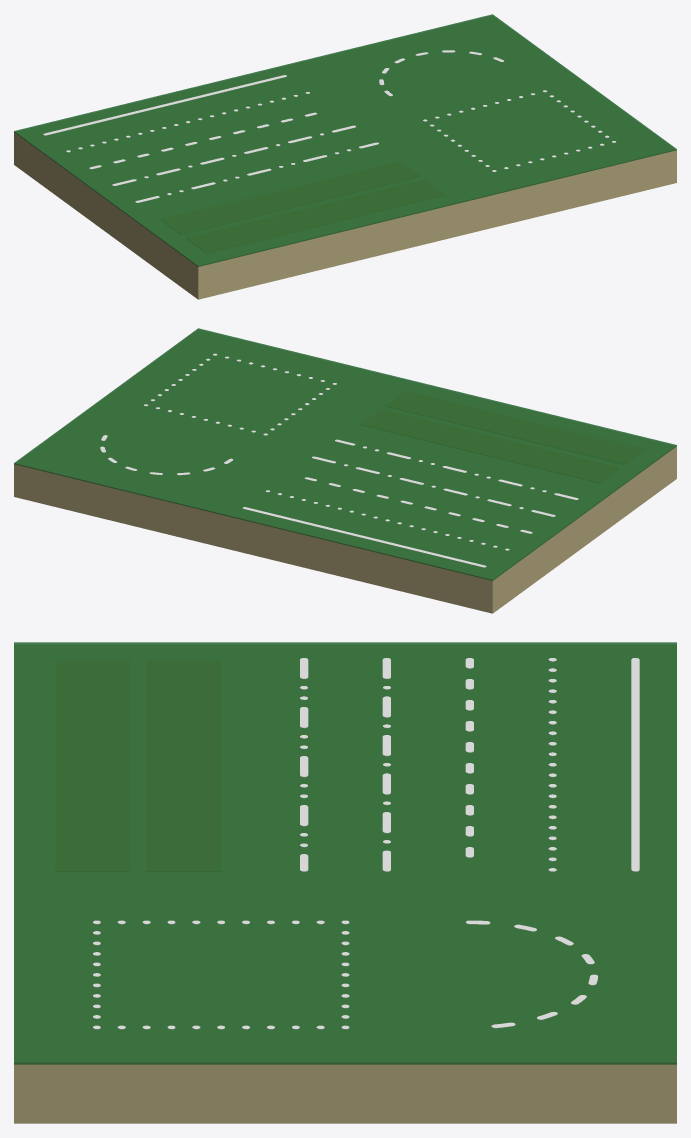
Rendered from line-styles.glb.
3 views of the same model, one above another, from view 1: azimuth 30°, elevation 25°; view 2: azimuth 150°, elevation 25°; view 3: azimuth 270°, elevation 25° (orthographic). The views are drawn at different scales.
Visible parts, largest first — view 1: layer/@soldermask-top, layer/@core, layer/SILK; view 2: layer/@soldermask-top, layer/@core, layer/SILK; view 3: layer/@soldermask-top, layer/@core, layer/SILK.
Boxes of the visible parts, <box> form: layer/@soldermask-top: <box>14,14,676,266</box>; layer/@core: <box>14,16,676,299</box>; layer/SILK: <box>43,50,615,202</box>; layer/@soldermask-top: <box>14,328,676,580</box>; layer/@core: <box>14,331,676,613</box>; layer/SILK: <box>100,353,578,567</box>; layer/@soldermask-top: <box>14,642,676,1064</box>; layer/@core: <box>14,645,676,1123</box>; layer/SILK: <box>93,658,639,1029</box>.
Size of the model in its own units: 0.024 by 0.00163 by 0.016.
